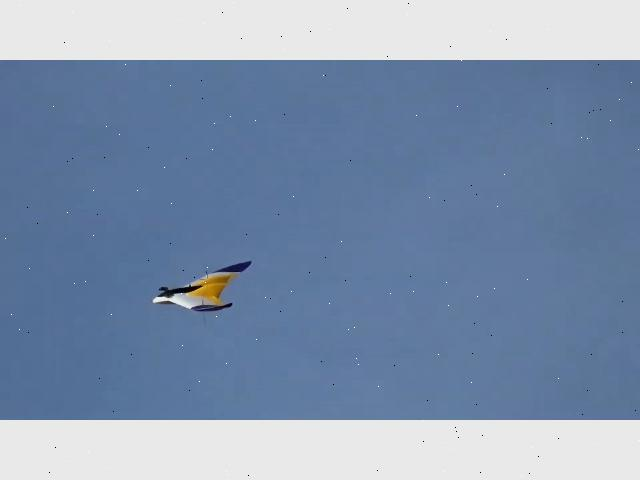Anti-Drone: (150, 260, 250, 312)
